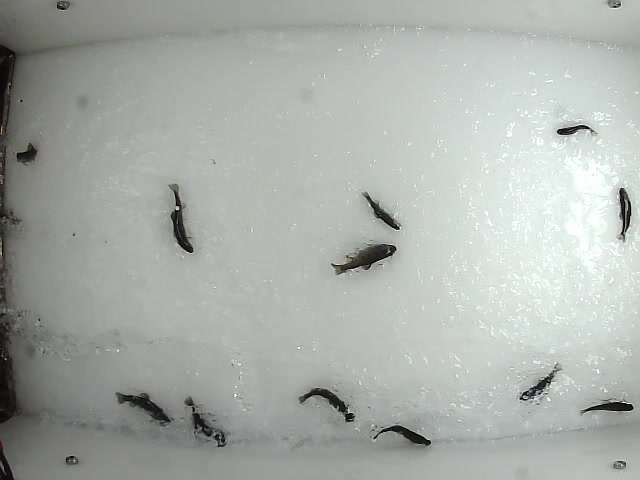fish: (328, 241, 398, 277), (114, 389, 174, 427), (167, 181, 197, 256), (516, 359, 565, 404), (296, 386, 357, 422), (362, 191, 402, 232), (370, 422, 435, 446), (612, 185, 635, 244), (576, 399, 637, 418)
